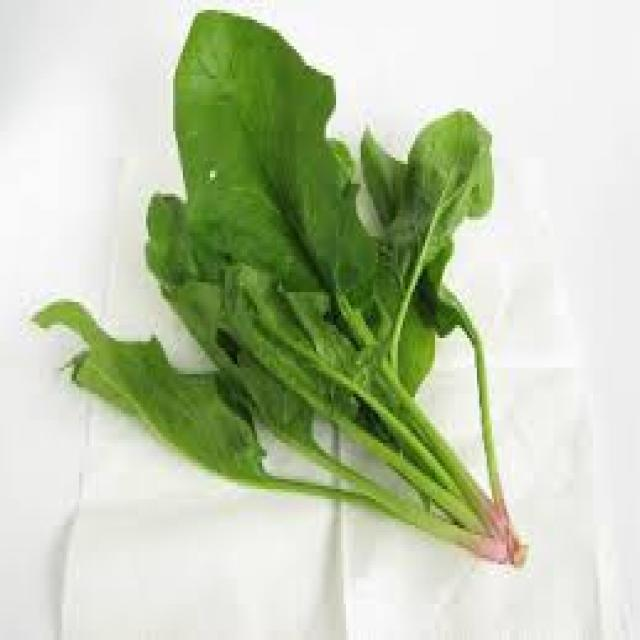Spinach bagged/loose: (35, 16, 529, 566)
